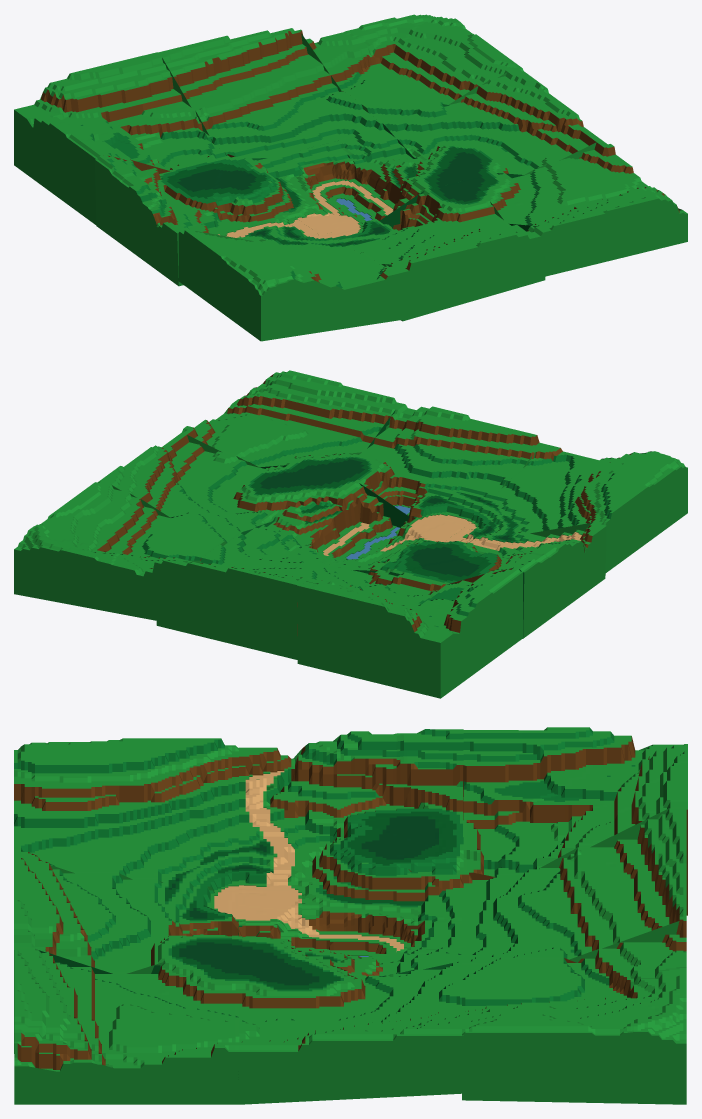
The model's file is Level One Valley Terrain Map Further Coloration Test 2.1.1.1.fbx.
3 views of the same model, one above another, from view 1: azimuth 30°, elevation 25°; view 2: azimuth 150°, elevation 25°; view 3: azimuth 270°, elevation 25° (orthographic). The views are drawn at different scales.
Parts seen in each view (by area): view 1: Cube.001; view 2: Cube.001; view 3: Cube.001.
Boxes of the visible parts, x1,y1,x2,y2 form: Cube.001: [14, 14, 687, 341]; Cube.001: [14, 370, 687, 698]; Cube.001: [14, 727, 687, 1104].
Size of the model in its own units: 18001 by 4003 by 17979.
